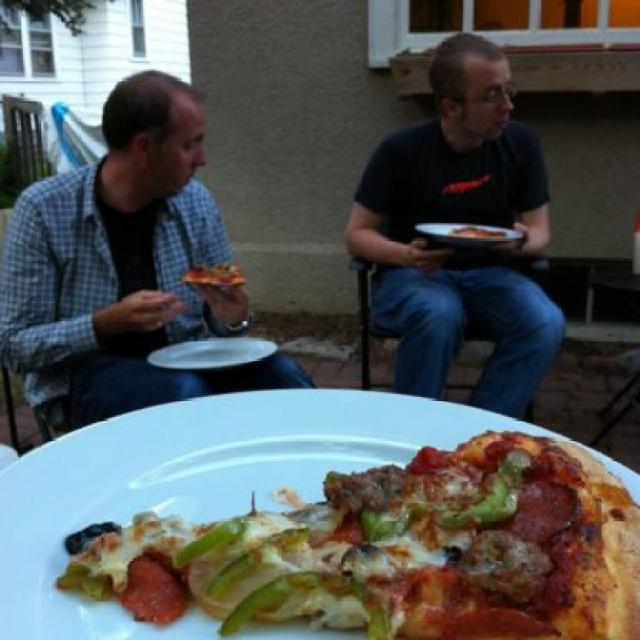Pizza: (58, 432, 640, 640), (180, 256, 243, 284), (450, 224, 510, 241)
